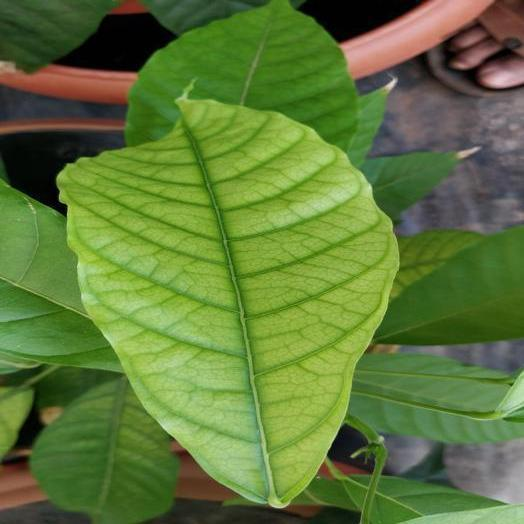Healthy Leaf: (125, 0, 356, 152), (0, 179, 120, 370), (31, 375, 177, 523), (375, 226, 523, 345), (350, 354, 523, 442), (361, 152, 462, 221), (348, 81, 395, 166)
Iron: (58, 97, 397, 506), (391, 230, 482, 300)
